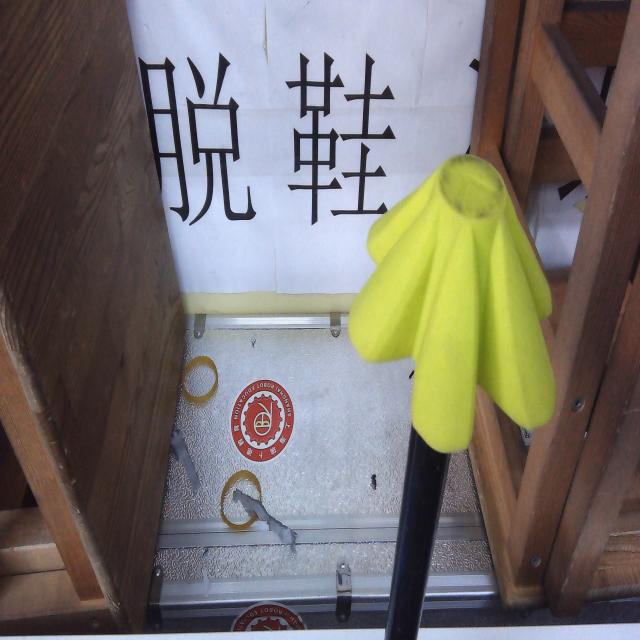Yellow-Stake-Head: (342, 142, 560, 454)
